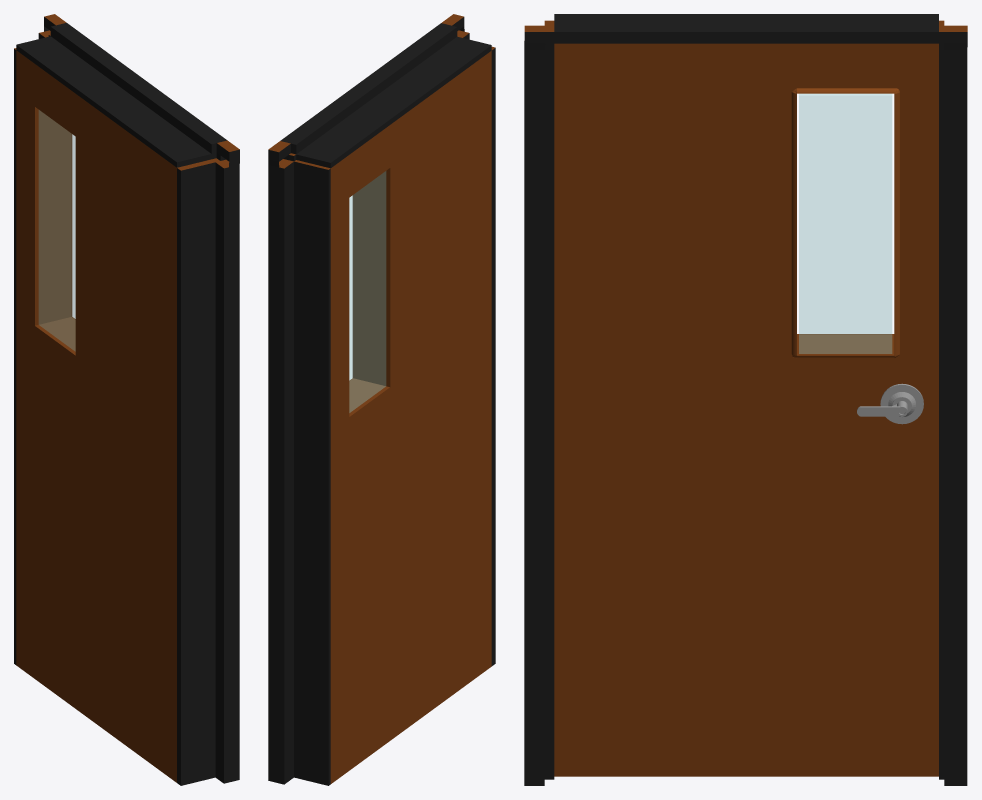
File: door.fbx
3 renders of one model, left to right at view 1: azimuth 30°, elevation 25°; view 2: azimuth 150°, elevation 25°; view 3: azimuth 270°, elevation 25°, orthographic. The views are drawn at different scales.
Parts seen in each view (by area): view 1: Cylinder.001; view 2: Cylinder.001; view 3: Cylinder.001.
Part boxes in pixels (left/top/right/bottom): Cylinder.001: left=14, top=14, right=239, bottom=785; Cylinder.001: left=268, top=14, right=495, bottom=785; Cylinder.001: left=524, top=14, right=967, bottom=785.
Size of the model in its own units: 56.96 by 678 by 361.
